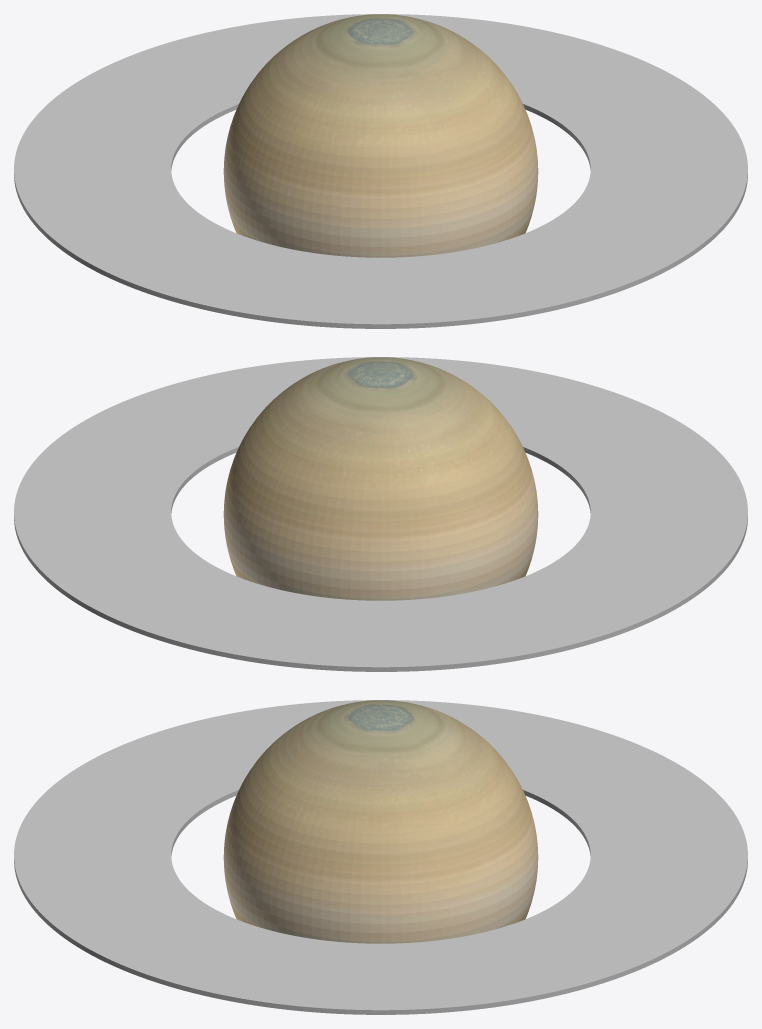
The model's file is saturn.dae.
3 renders of one model, top to bottom at view 1: azimuth 30°, elevation 25°; view 2: azimuth 150°, elevation 25°; view 3: azimuth 270°, elevation 25°, orthographic.
Parts seen in each view (by area): view 1: SketchUp (×12), group0; view 2: SketchUp (×12), group0; view 3: SketchUp (×12), group0.
Boxes of the visible parts, <box> form: SketchUp (×12): <box>14,14,747,328</box>; group0: <box>223,14,538,257</box>; SketchUp (×12): <box>14,357,747,671</box>; group0: <box>223,357,538,600</box>; SketchUp (×12): <box>14,700,747,1014</box>; group0: <box>223,700,538,943</box>.
Size of the model in its own units: 5.51 by 5.51 by 2.36.
